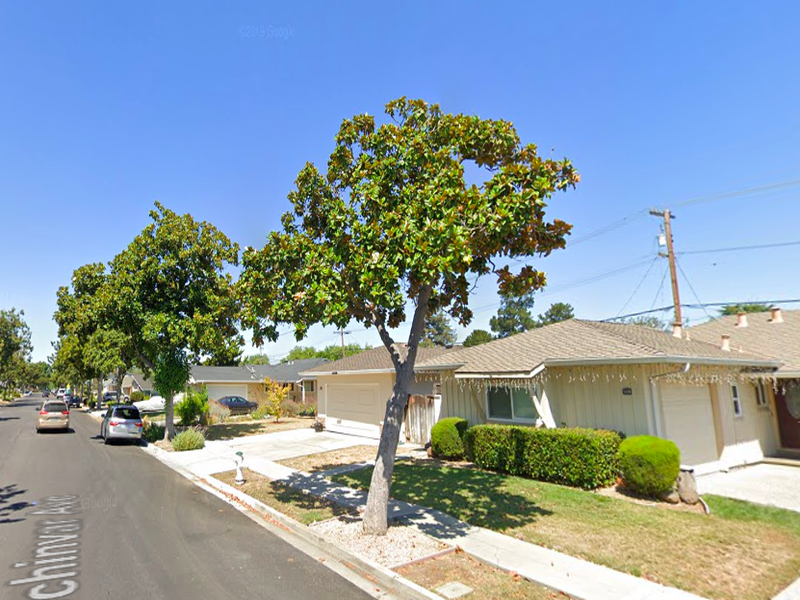tree: (231, 96, 583, 536), (98, 200, 244, 441), (53, 262, 140, 408)
